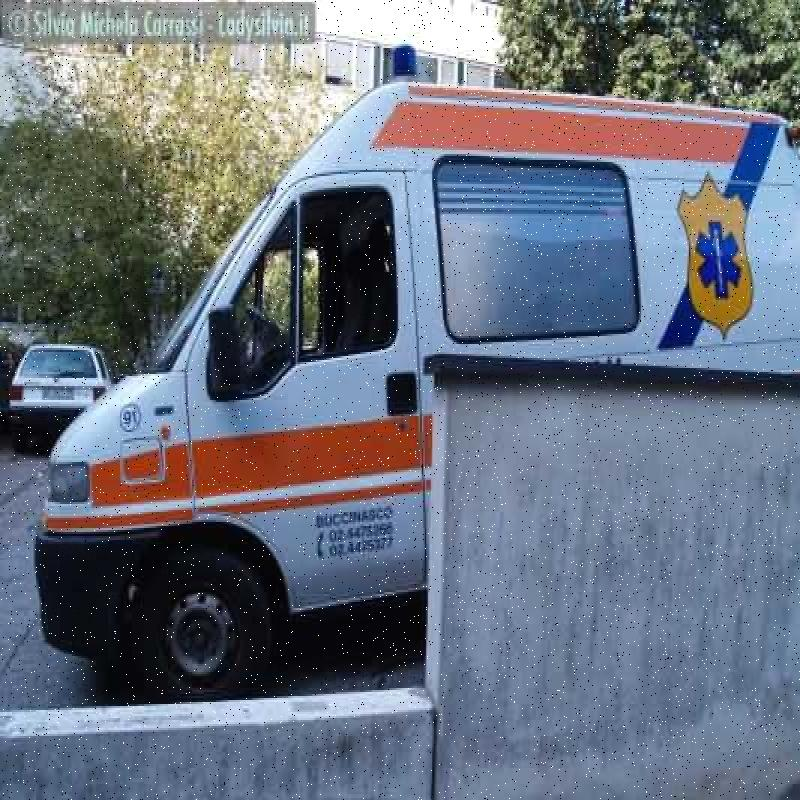AmbulanceSiren: (382, 28, 427, 98)
